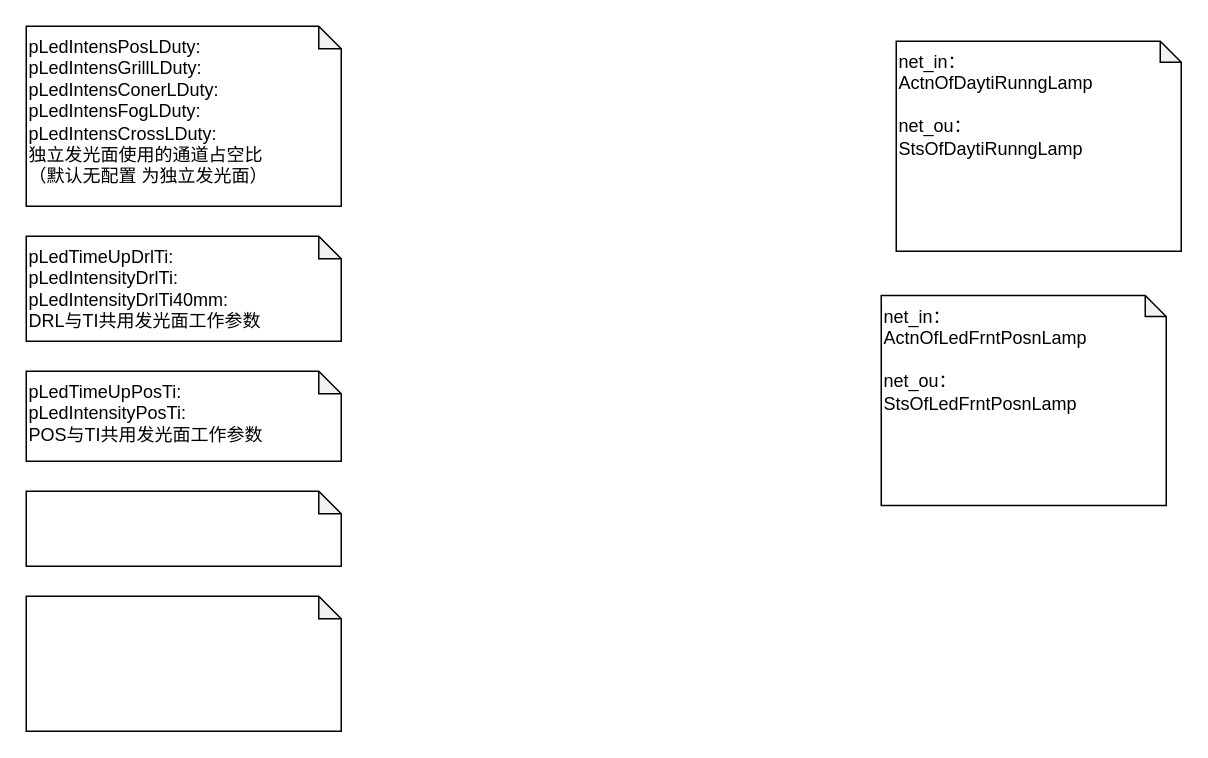
This 1208x758 diagram has some shape labels left out. The shapes that lost their labels are listed below. From the top down, each one's centre as x and y in pixels, then its label:
(183,528): pLedIntensityPos: POS与DRL共用通道时，POS占空比
(183,663): pLedPosDRLType: 0：共用通道 1：独立通道 2：部分共用通道 注：和Mapping表定义重复
